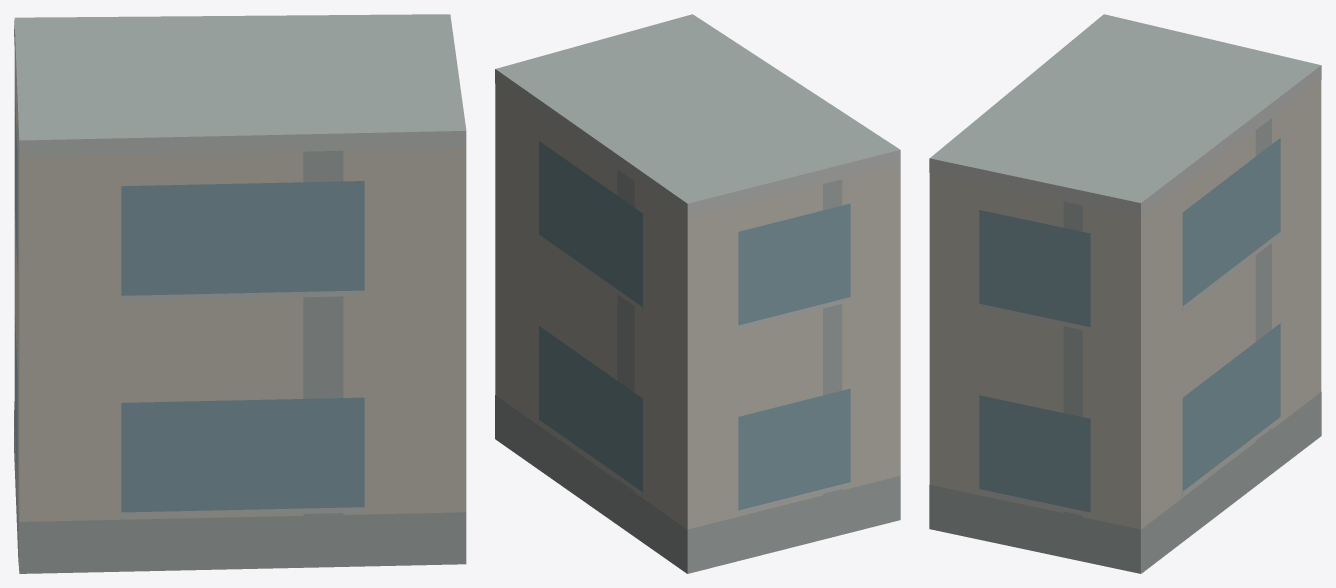
Rendered from survey-upis-32742289.glb.
3 views of the same model, side by side, from view 1: azimuth 30°, elevation 25°; view 2: azimuth 150°, elevation 25°; view 3: azimuth 270°, elevation 25° (orthographic). The views are drawn at different scales.
Visible parts, largest first — view 1: survey-upis-32742289.tmp; view 2: survey-upis-32742289.tmp; view 3: survey-upis-32742289.tmp.
Boxes of the visible parts, x1=… form: survey-upis-32742289.tmp: x1=14, y1=14, x2=466, y2=573; survey-upis-32742289.tmp: x1=495, y1=14, x2=900, y2=573; survey-upis-32742289.tmp: x1=929, y1=14, x2=1321, y2=573.
Bounding box in the file's own units: 6.68 × 6.1 × 5.85.
